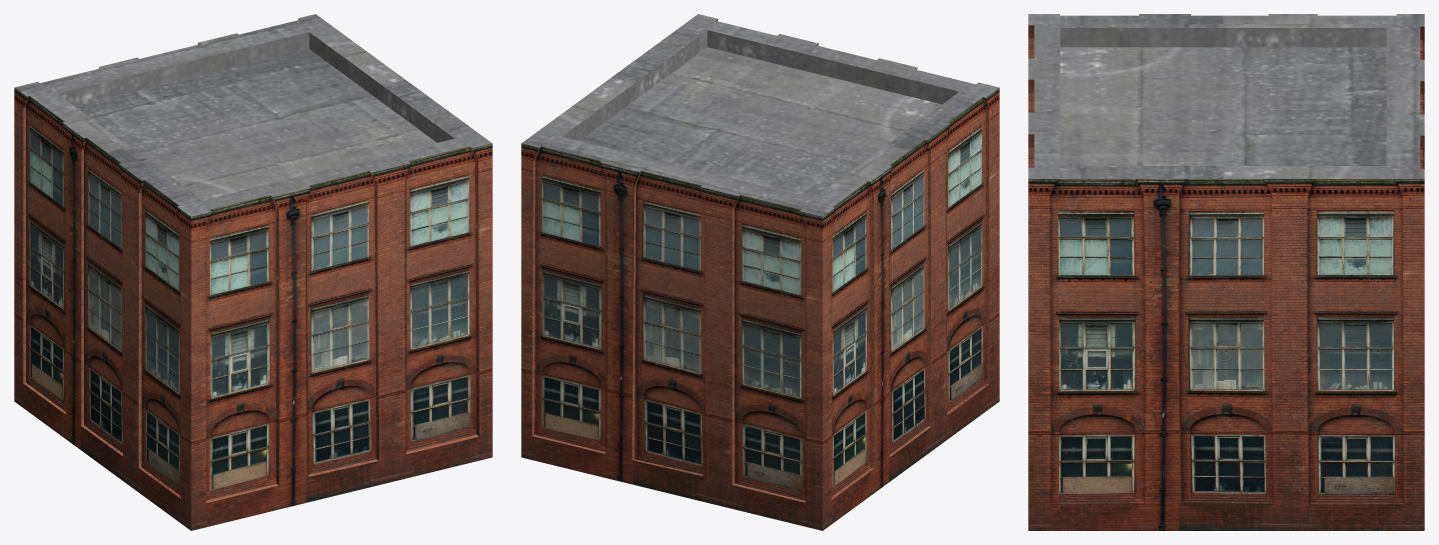
The model's file is building_1.glb.
3 views of the same model, side by side, from view 1: azimuth 30°, elevation 25°; view 2: azimuth 150°, elevation 25°; view 3: azimuth 270°, elevation 25° (orthographic). The views are drawn at different scales.
Visible parts, largest first — view 1: Material2 (×3); view 2: Material2 (×3); view 3: Material2 (×3).
Boxes of the visible parts, bbox=[...] form: Material2 (×3): bbox=[14, 14, 492, 530]; Material2 (×3): bbox=[521, 14, 999, 530]; Material2 (×3): bbox=[1028, 14, 1424, 530].
Bounding box in the file's own units: 5.81 × 5.78 × 5.9.
5 materials, 5 textured.
